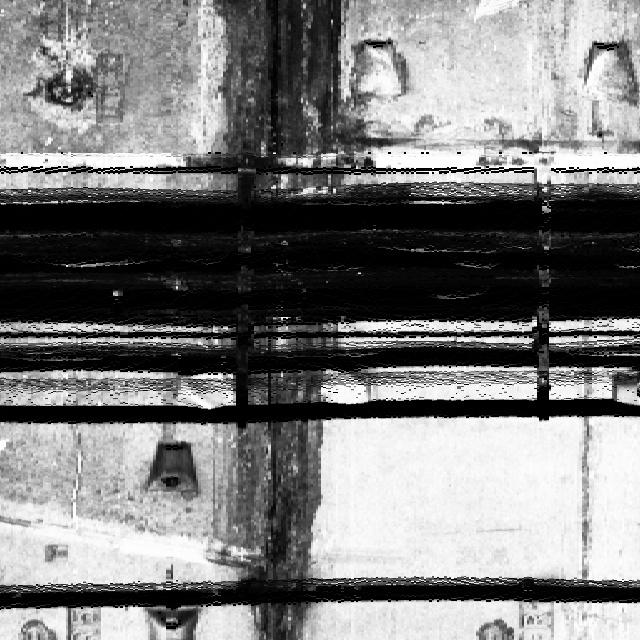leakage: (203, 324, 335, 638), (195, 0, 359, 195)
